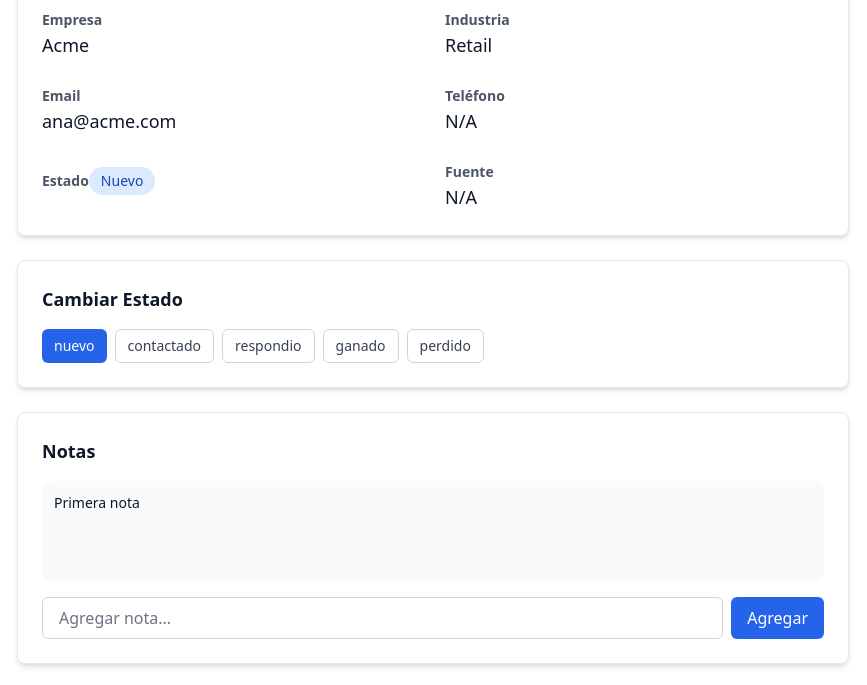
Scenario: LeadDetailPage › locks status buttons while a note is being saved (regression)
The width and height of the screenshot is (867, 685).
(page scrolled)
Step 1. Type "Nota" into the field with placeholder "Agregar nota..." → (383, 618), box [42,597,723,639]
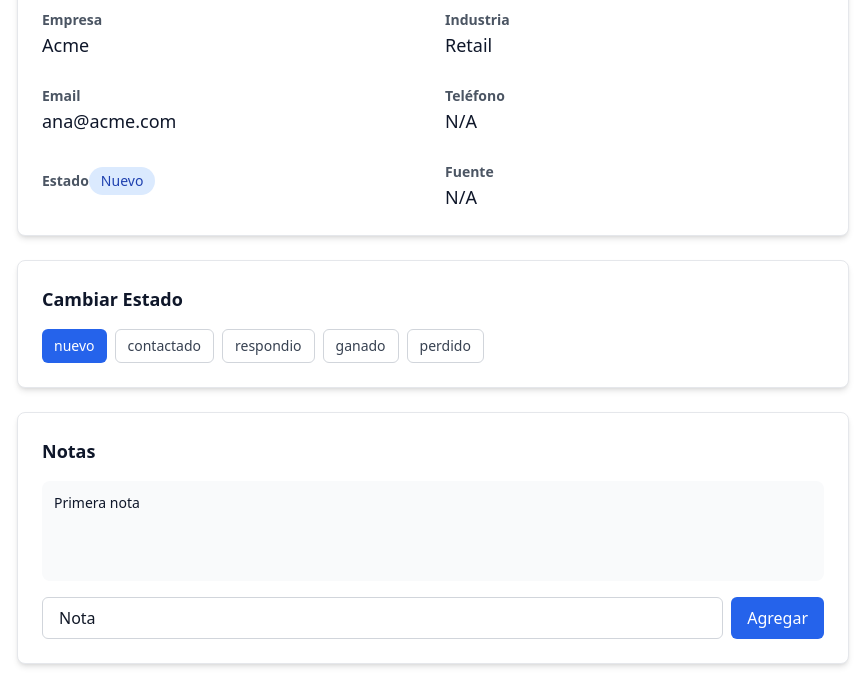
Step 2. Click the button "Agregar" → (778, 618), box [731,597,824,639]
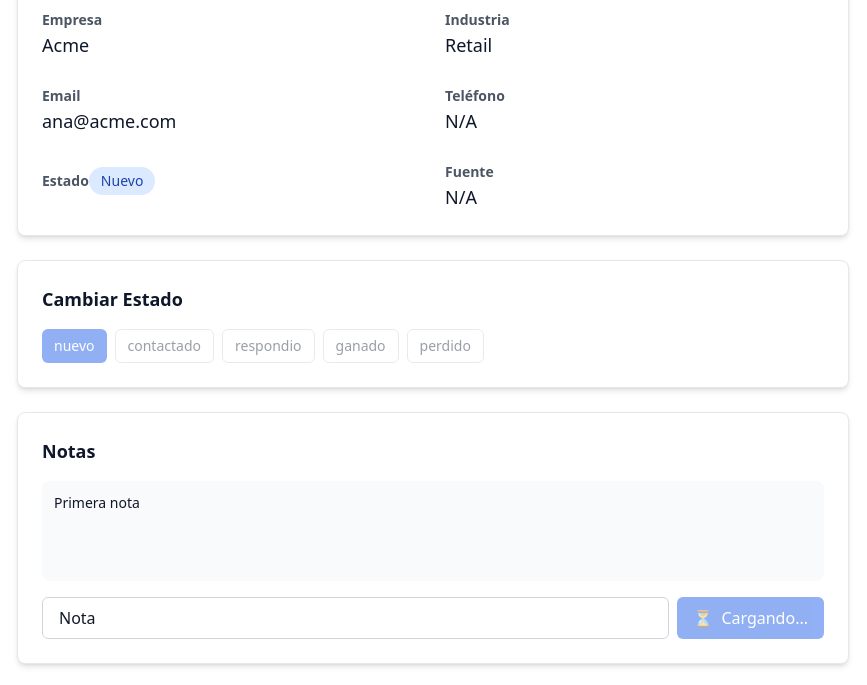
Expected: the button "ganado" is disabled
Step 3. Click the button "ganado" → (361, 346), box [322,329,399,363]
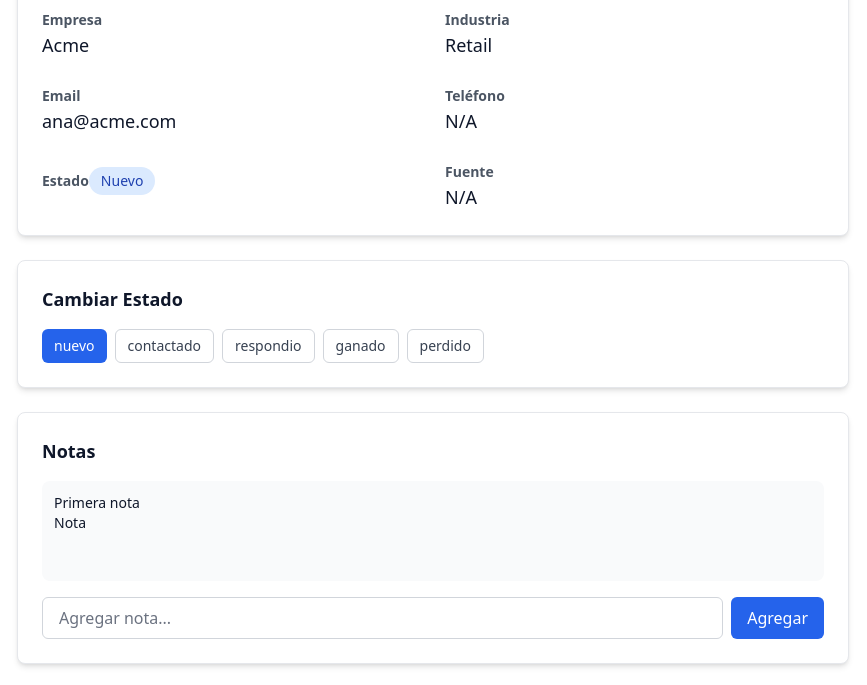
Expected: the button "ganado" is enabled, [322,329,399,363]
